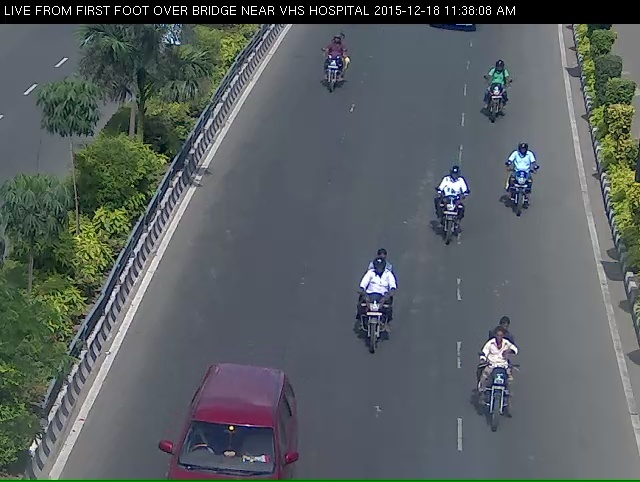Car: (152, 384, 310, 481)
Person: (344, 282, 400, 384), (477, 360, 529, 464), (470, 67, 520, 142), (430, 182, 473, 262), (307, 44, 355, 113), (506, 156, 540, 244)
